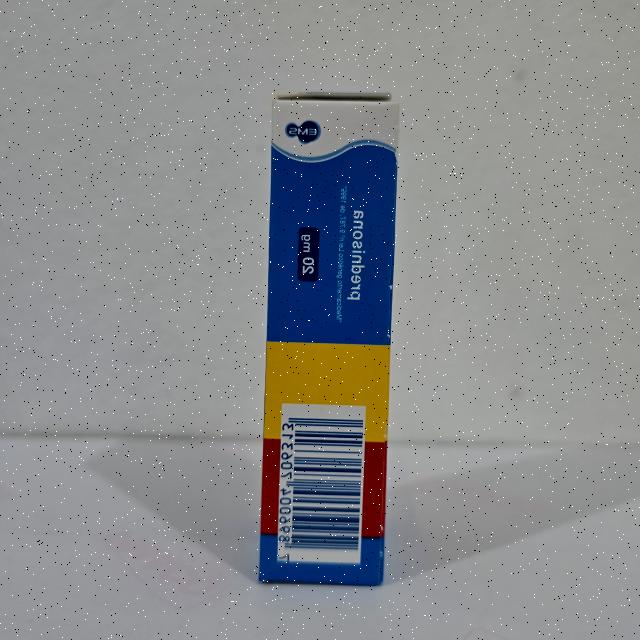prednisona: (252, 87, 406, 596)
